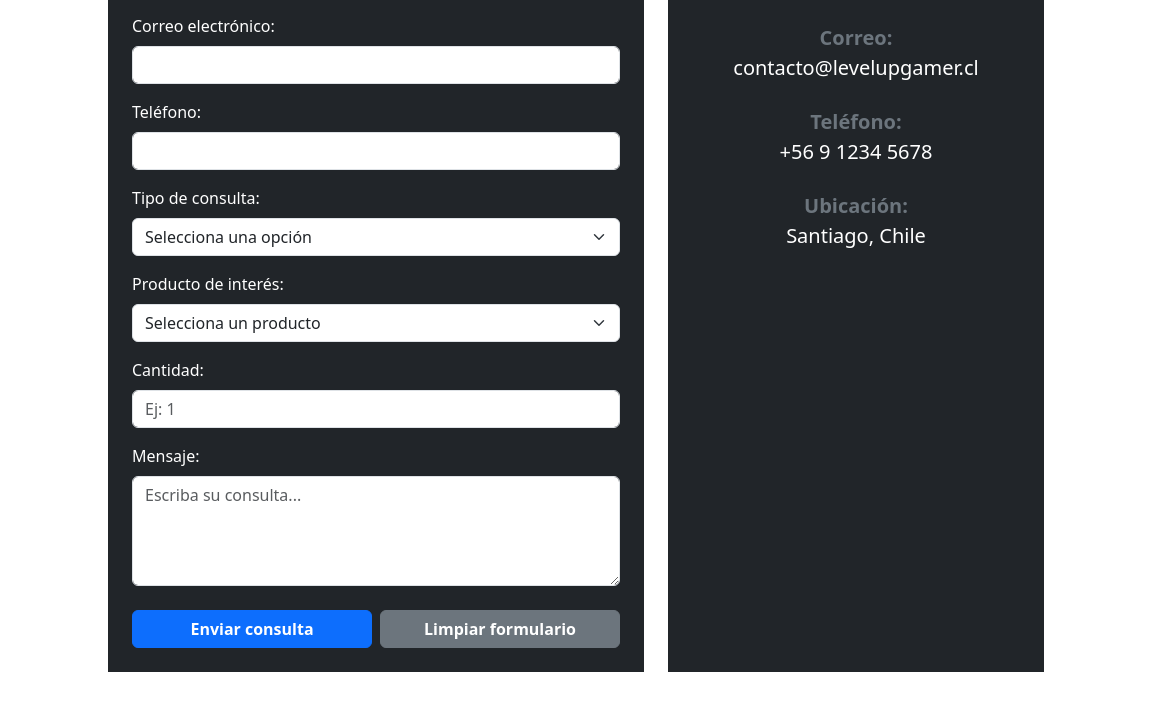
Scenario: ContactView Component › muestra alerta de error si se envía el formulario con campos vacíos
(page scrolled)
Click the button "Enviar consulta". click: (252, 629)
box: [132,610,372,648]
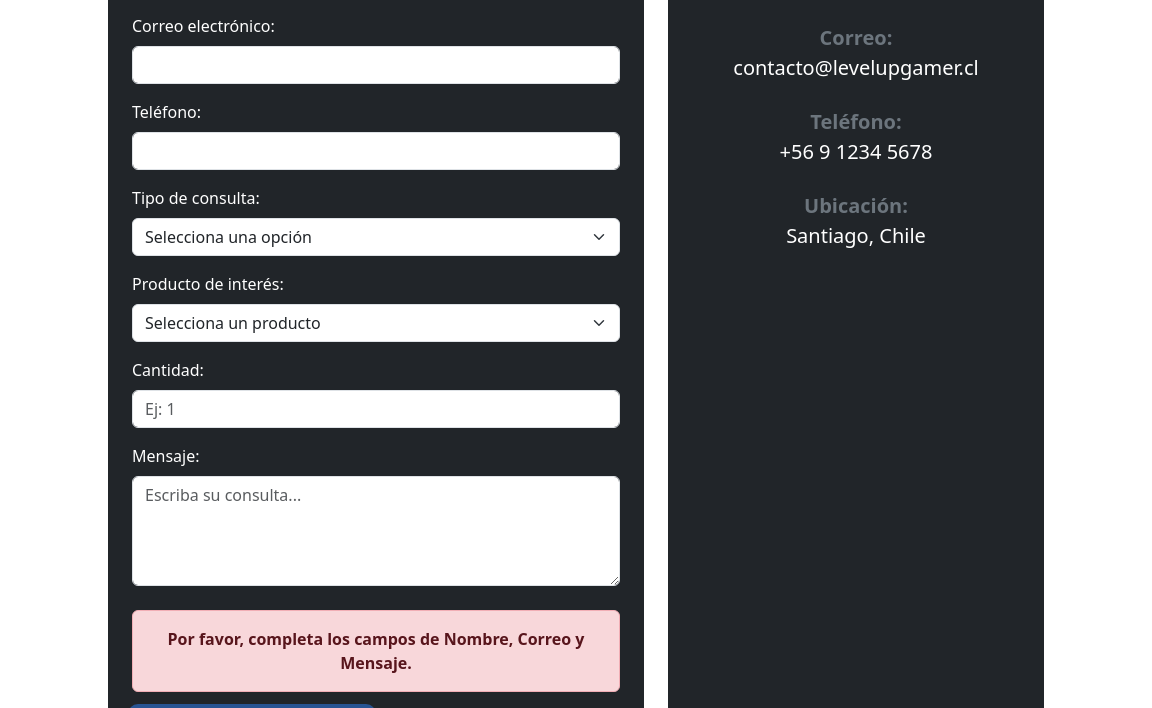
Now the text "Por favor, completa los campos de Nombre, Correo y Mensaje." is shown, box [132,610,620,692]
